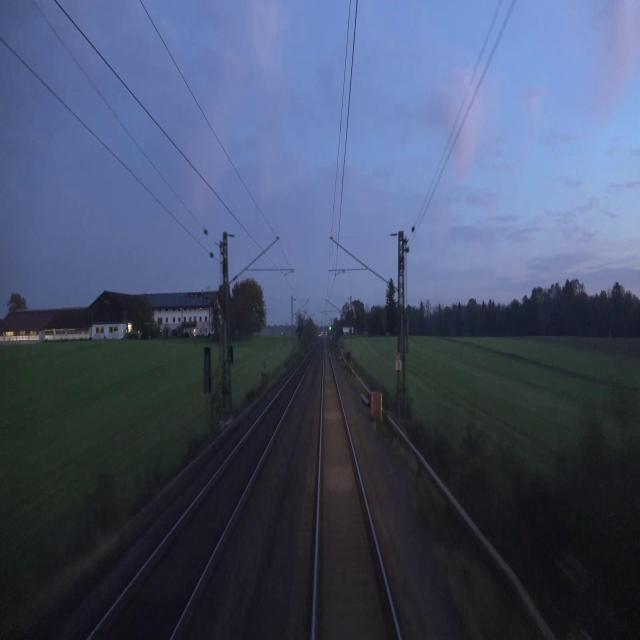rail-track: (92, 353, 312, 639), (316, 345, 397, 639)
